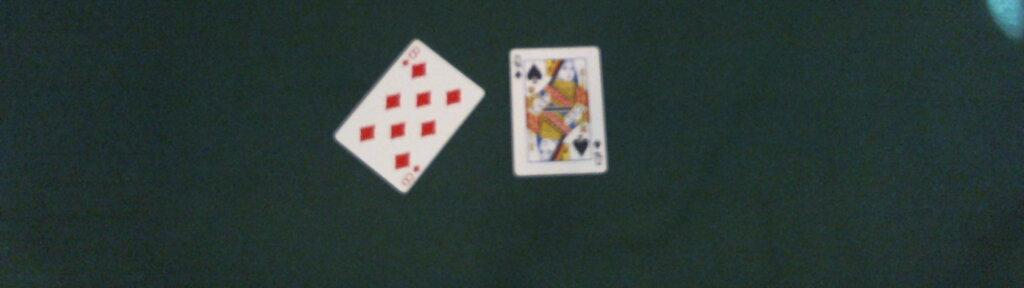eight: (333, 38, 484, 194)
queen: (507, 46, 609, 176)
